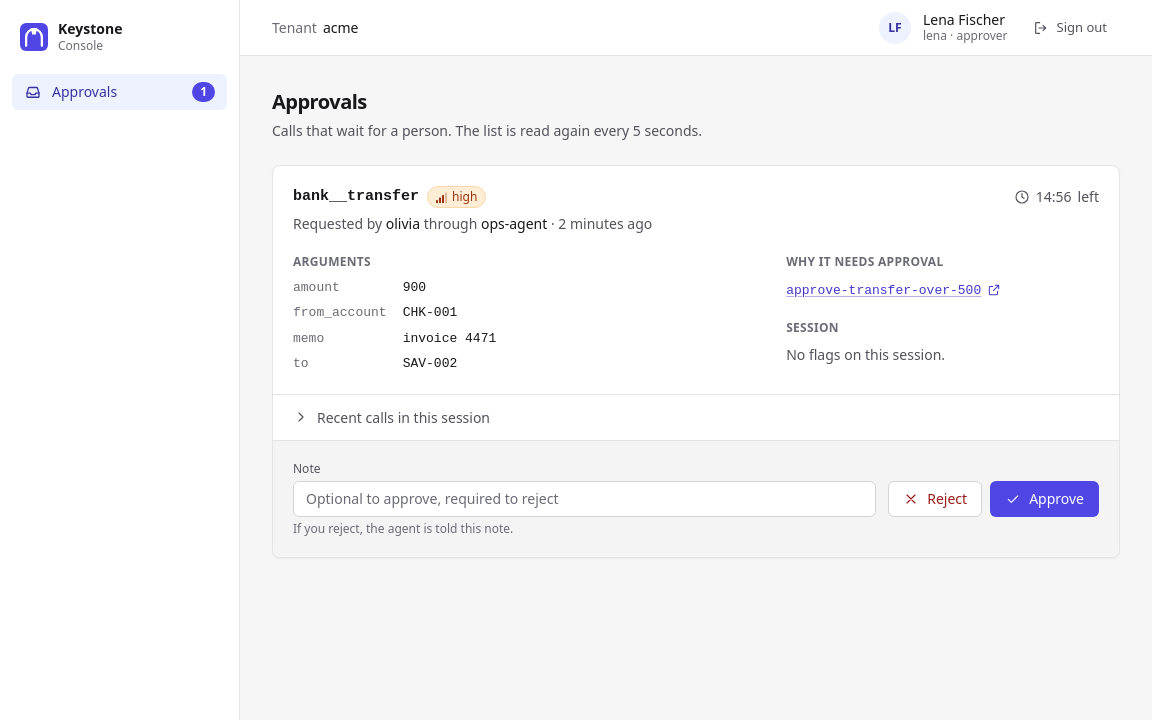
Scenario: rejecting asks for a note and sends nothing without one
The width and height of the screenshot is (1152, 720).
Click the button "Reject". click: (935, 498)
box: [888,480,982,516]
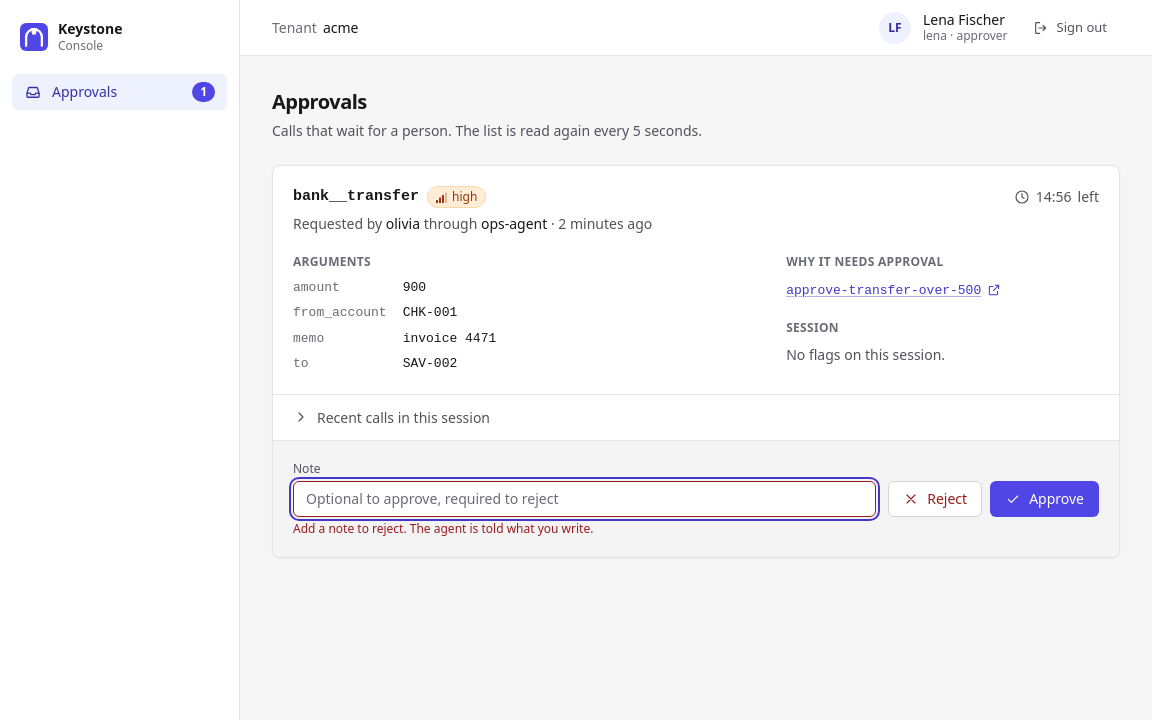
Now the message shows "Add a note to reject", box [293,520,593,536]
